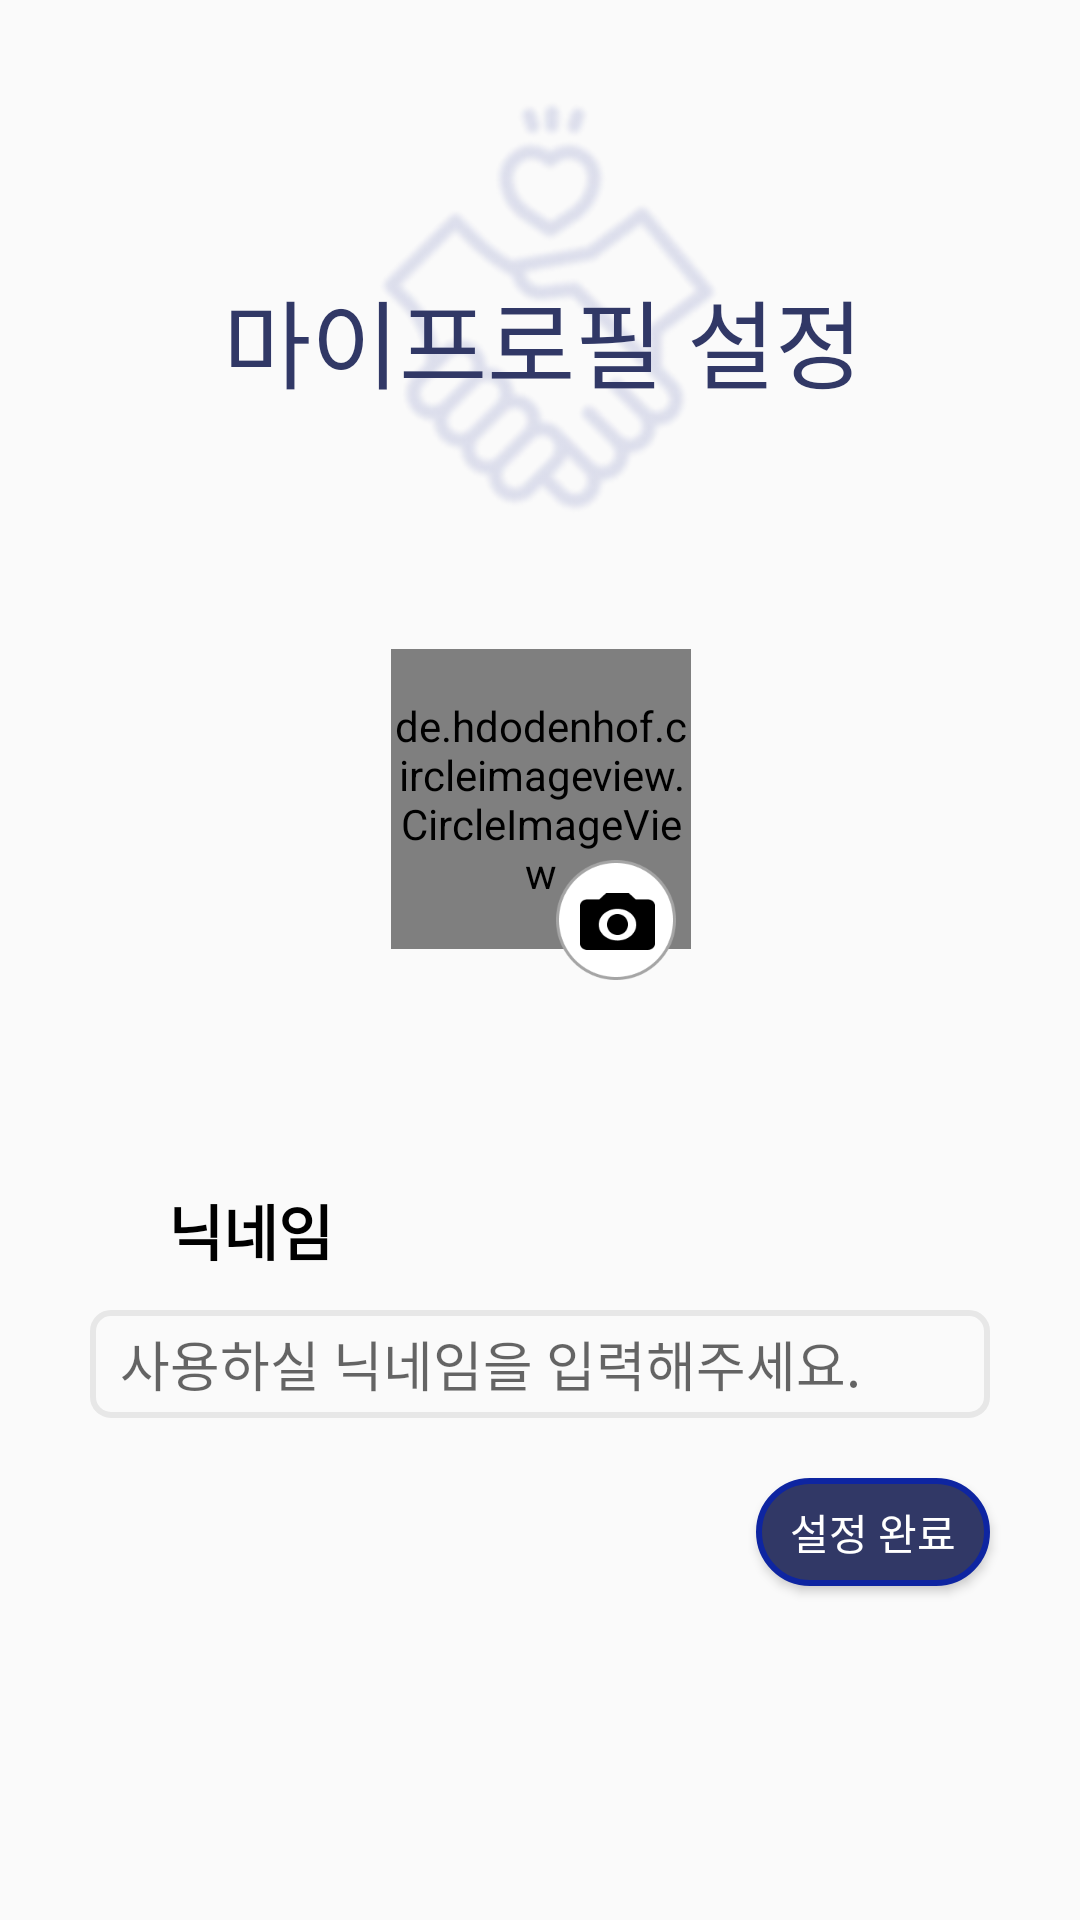

Point at icon controls on the screen. Image size 1080x1920, points as (x,y).
camera: (616,920)
